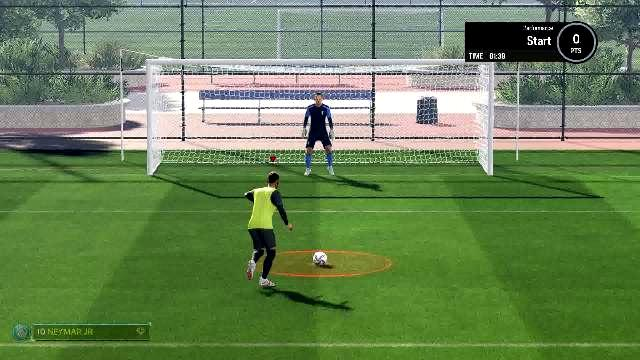bottom-left: (150, 120, 262, 174)
bottom-right: (377, 120, 487, 174)
center-down: (262, 121, 372, 176)
center-up: (260, 63, 374, 120)
circle: (268, 248, 396, 279)
football: (312, 252, 328, 266)
goalkeeper: (298, 92, 344, 178)
player: (234, 171, 294, 291)
top-left: (150, 64, 262, 120)
top-right: (376, 64, 486, 120)
